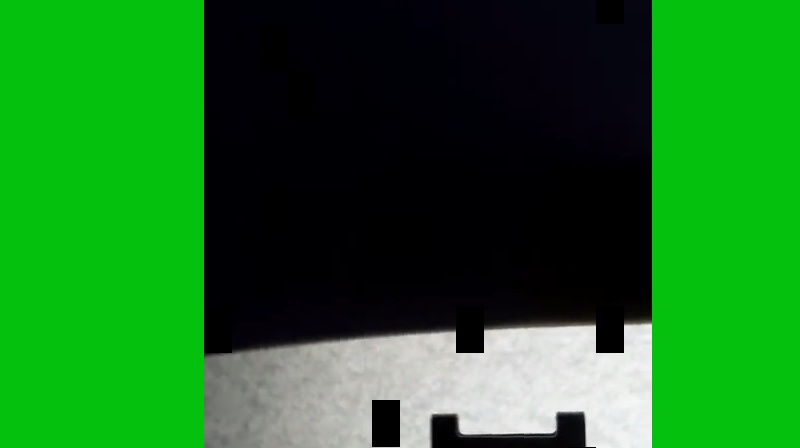O002: (424, 405, 596, 447)
